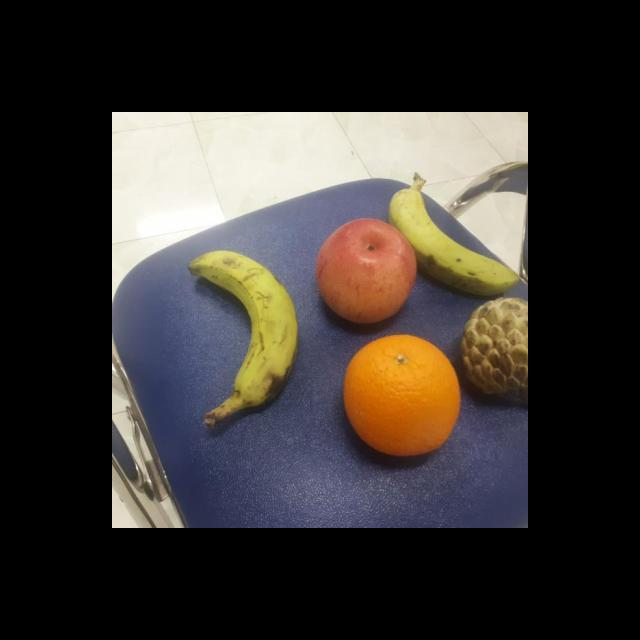Sakya fruit: (457, 296, 528, 400)
apple: (314, 217, 418, 324)
banana: (187, 244, 301, 406), (387, 185, 523, 296)
orange: (338, 331, 461, 462)
